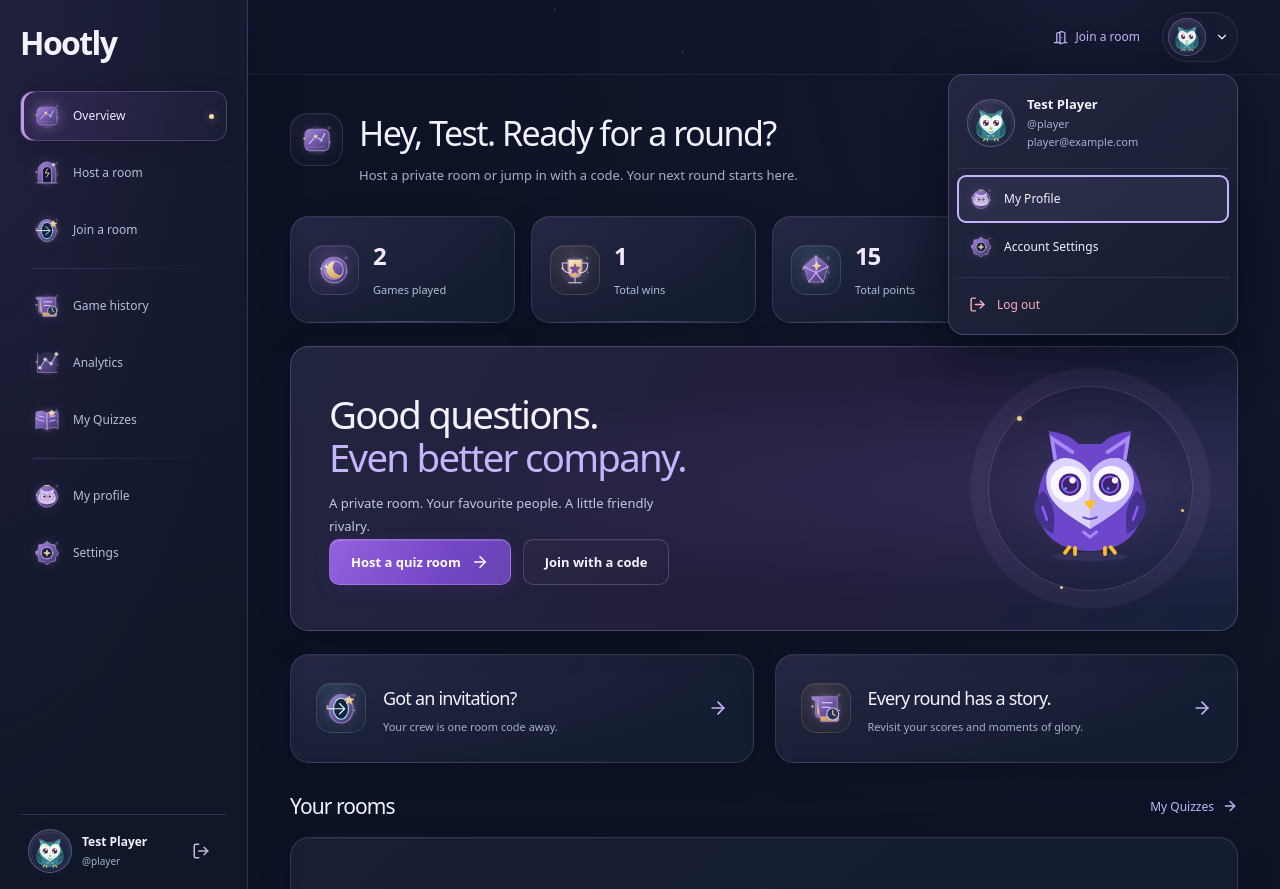
Test: opens the actual user menu, supports keyboard navigation, Escape and outside clicks
Earlier steps of the test are not shown.
Expected: the text "player@example.com" is shown, [1027,133,1138,152]
Press Arrowup
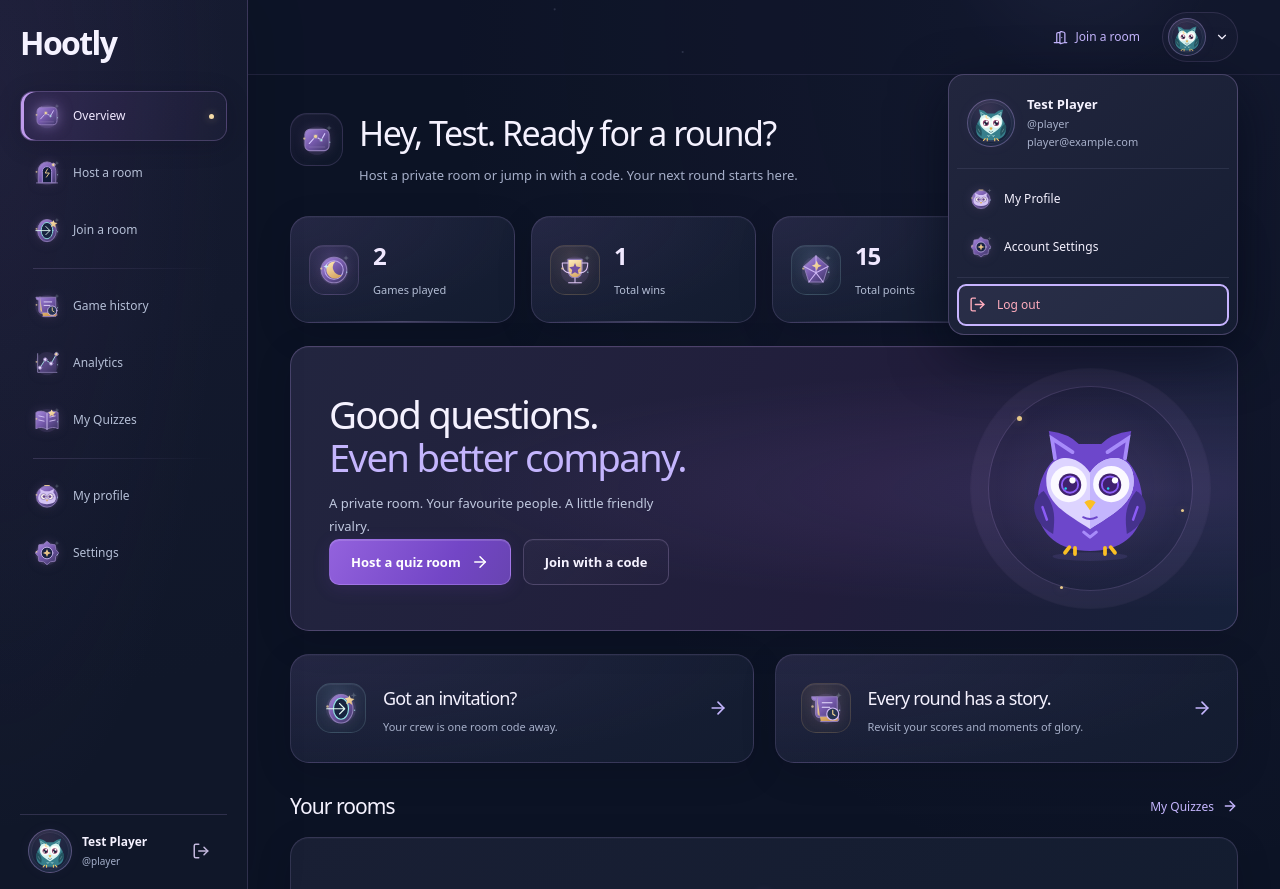
Press Escape
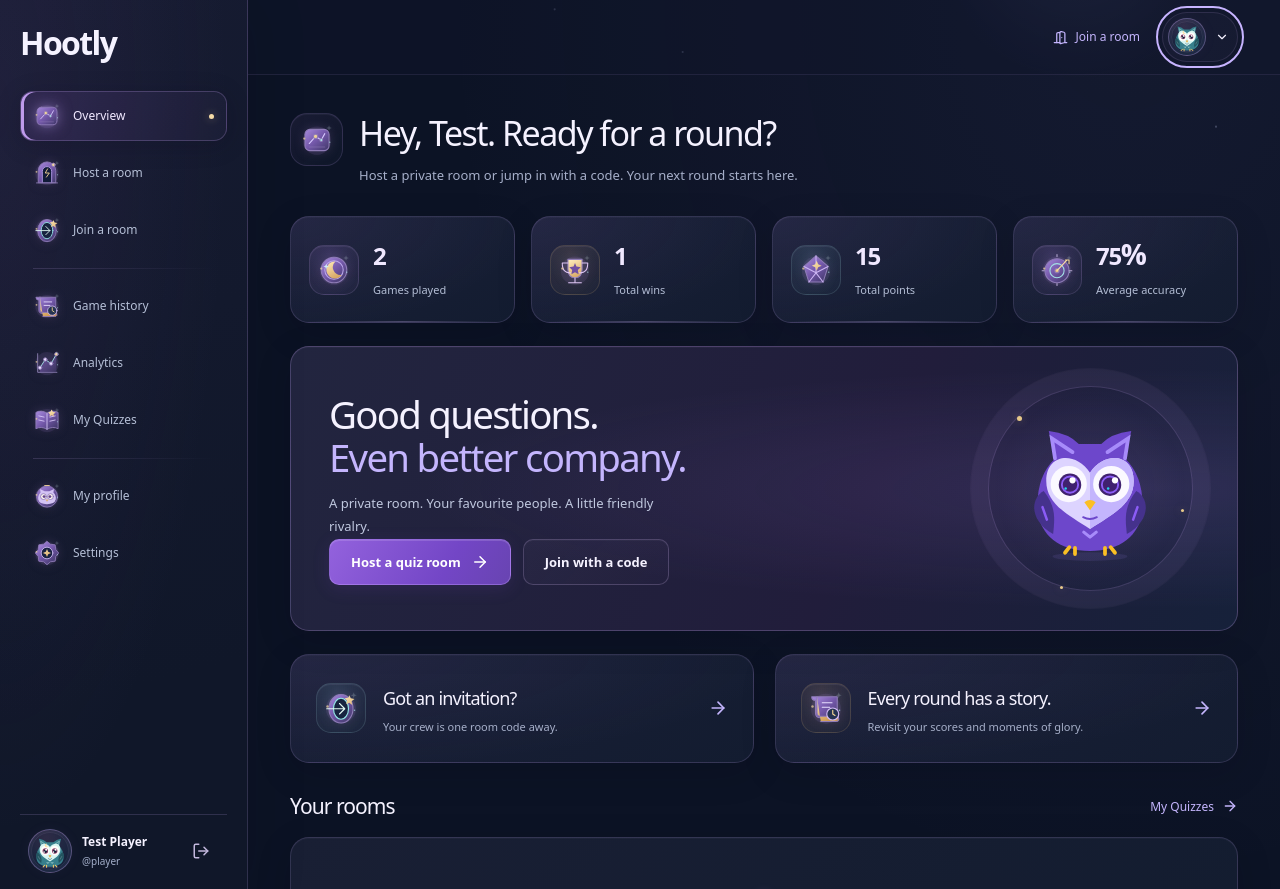
Result: the button named "Open account menu" is collapsed
Click the button named "Open account menu": (1200, 37) [1162,12,1238,62]
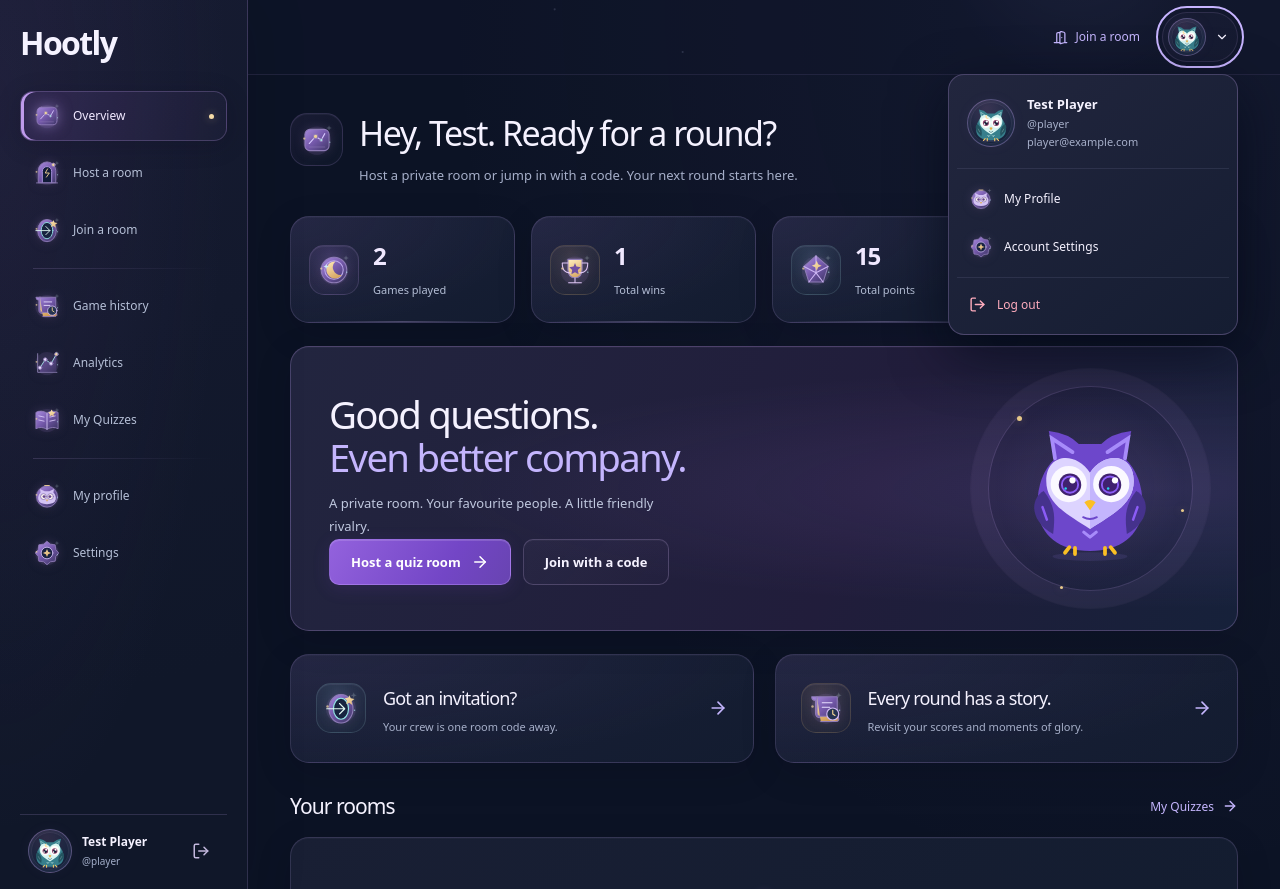
Click the heading "Hey, Test. Ready for a round?": (578, 134) [359,113,798,154]
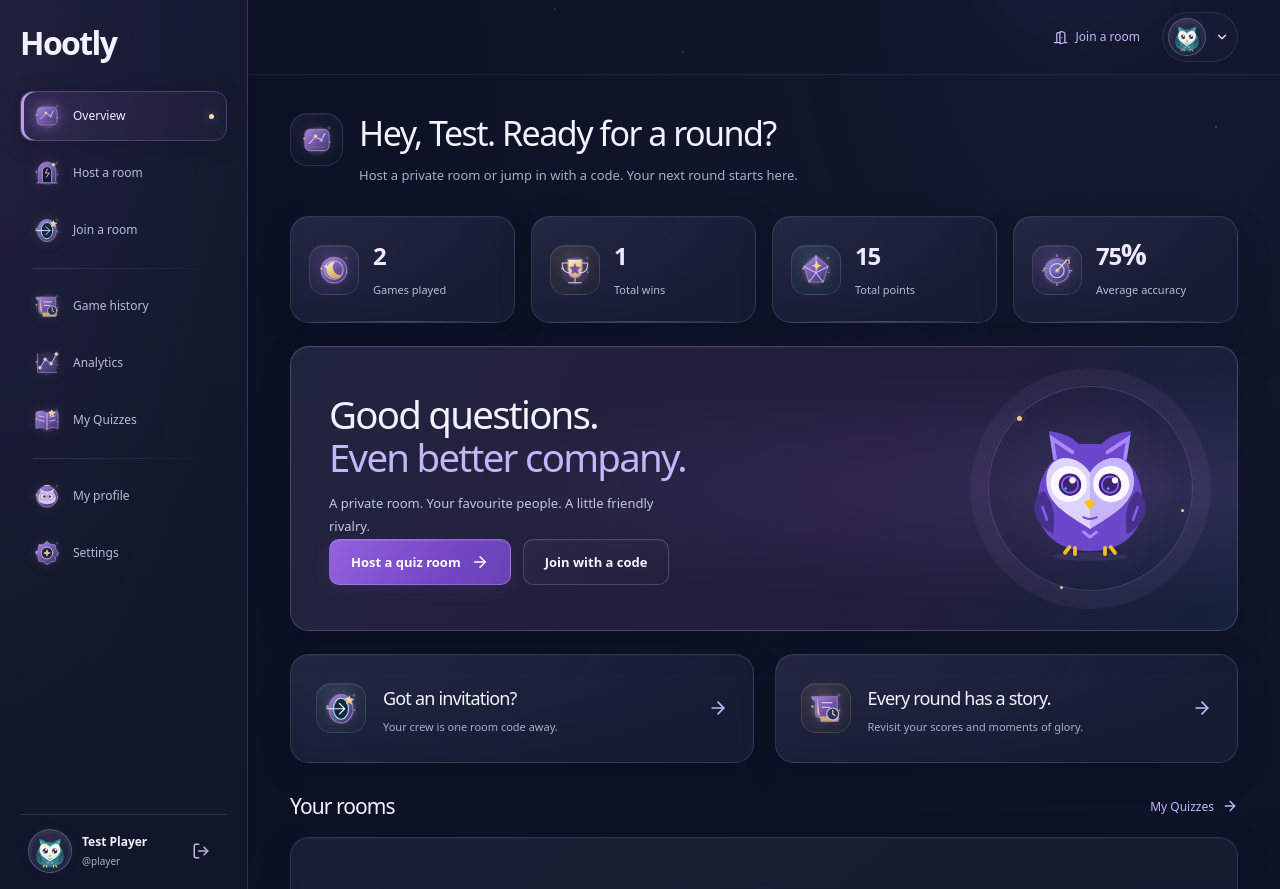
Result: the button named "Open account menu" is collapsed
Click the button named "Open account menu": (1200, 37) [1162,12,1238,62]
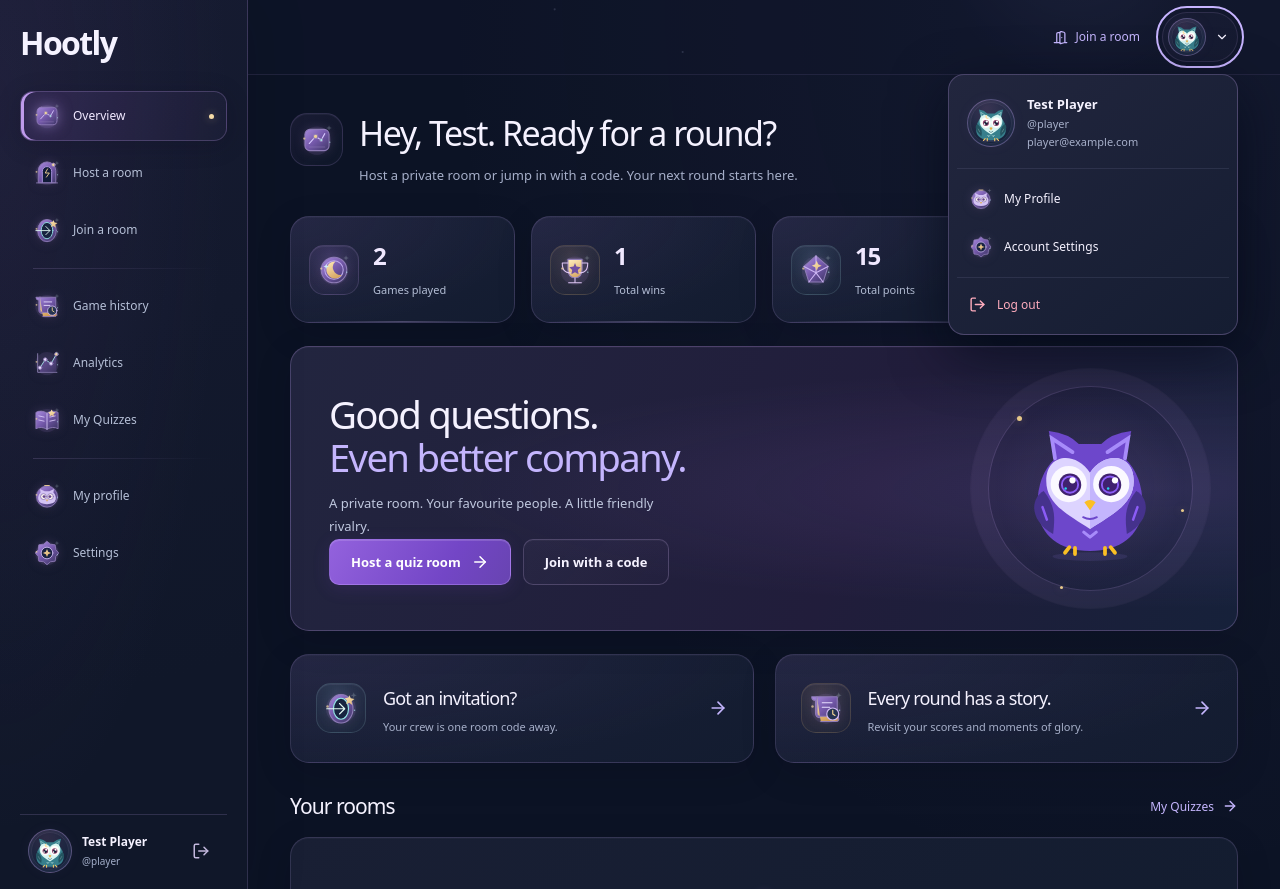
Click the menu item "My Profile": (1015, 199) [969,187,1060,211]
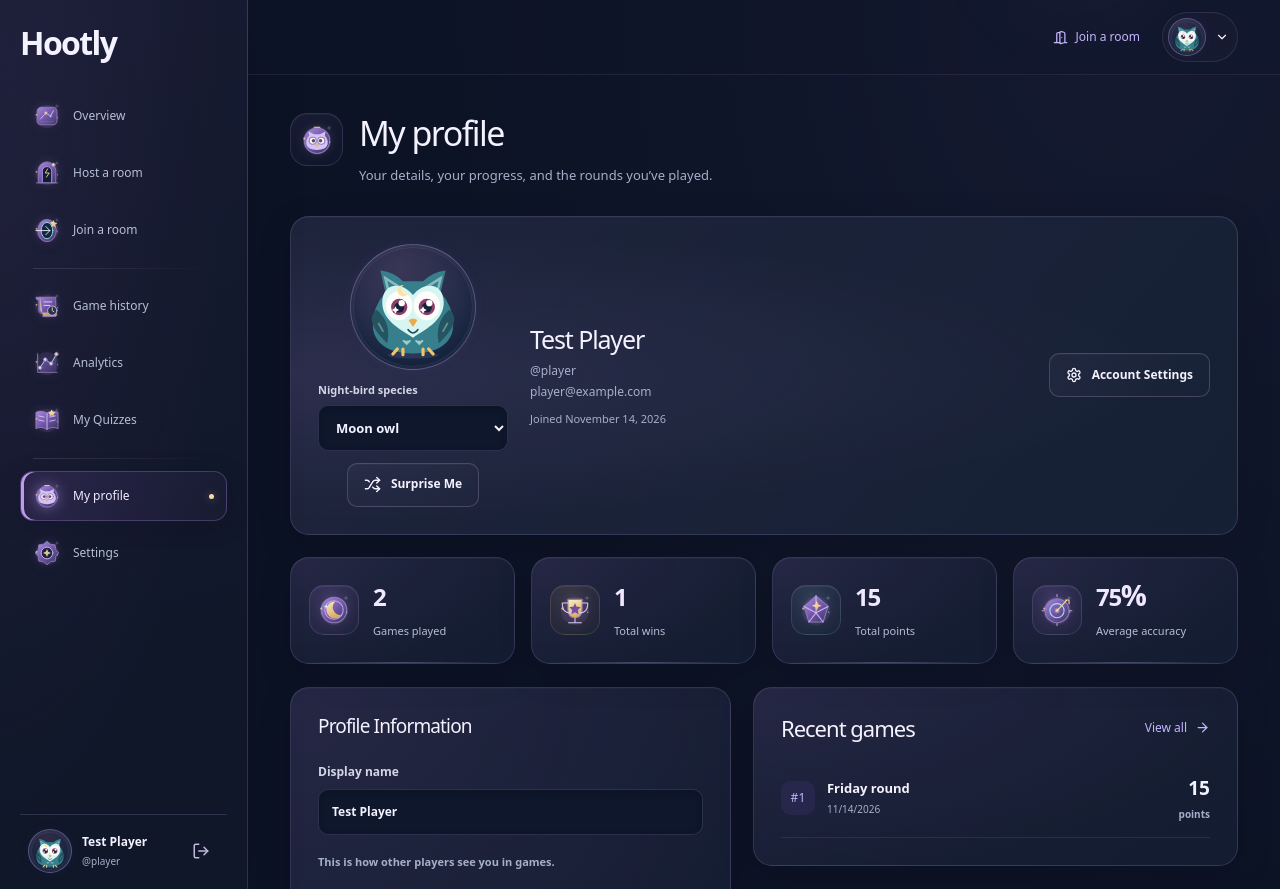
Result: the heading "My profile" is shown at [359,110,504,156]
